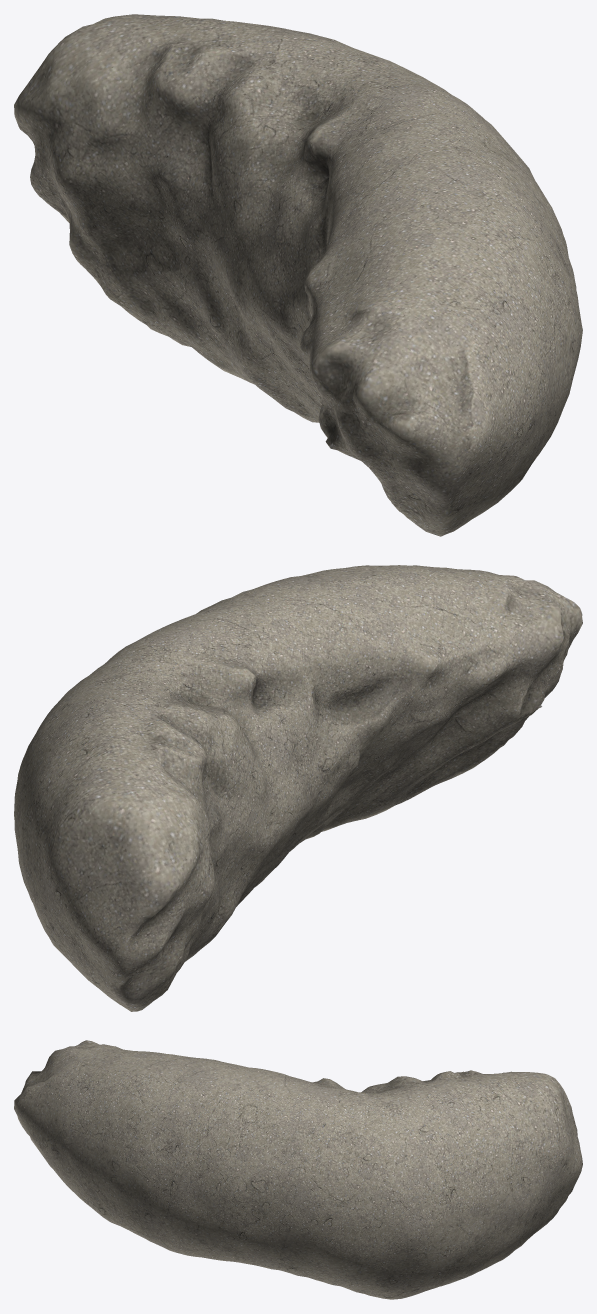
File: 19p-borrelly.glb
The picture shows the model from 3 angles, top to bottom: view 1: azimuth 30°, elevation 25°; view 2: azimuth 150°, elevation 25°; view 3: azimuth 270°, elevation 25°; orthographic projection. The views are drawn at different scales.
Parts seen in each view (by area): view 1: borrelly_LP; view 2: borrelly_LP; view 3: borrelly_LP.
Boxes of the visible parts, x1,y1,x2,y2 form: borrelly_LP: (14,14,582,536); borrelly_LP: (14,565,582,1011); borrelly_LP: (14,1040,582,1299).
Size of the model in its own units: 0.95 by 0.8284 by 1.93.
Materials: 1 (1 with a texture image).
